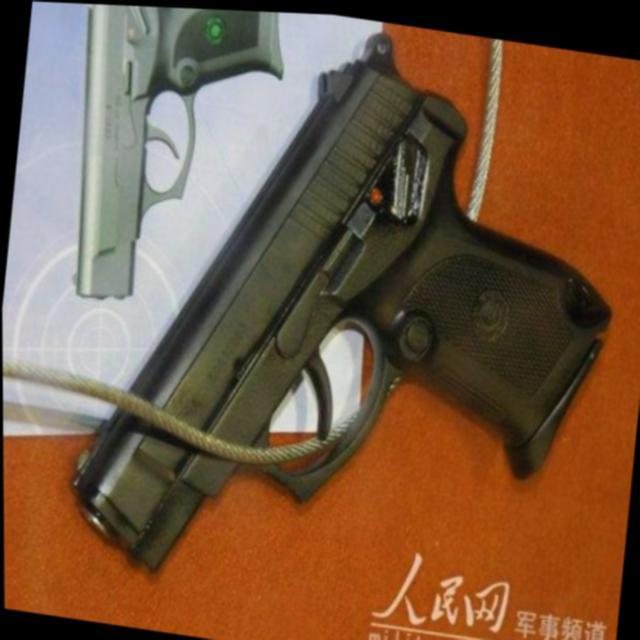weapon: (56, 2, 639, 632), (51, 2, 291, 321)
